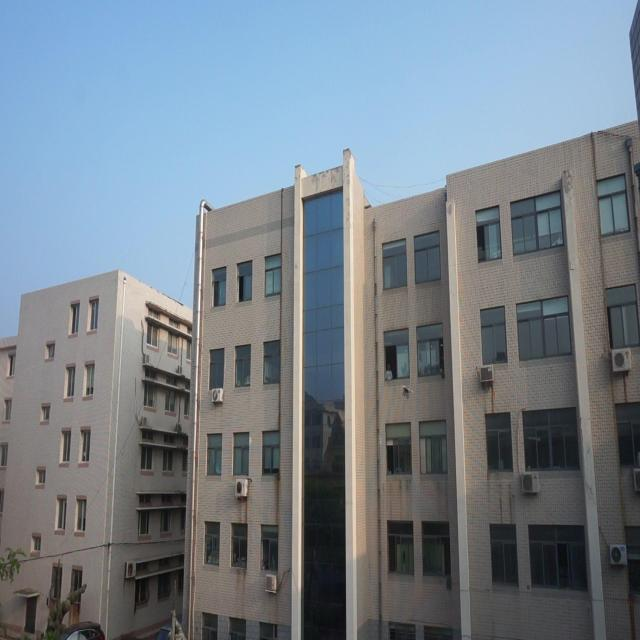drone: (402, 381, 413, 402)
